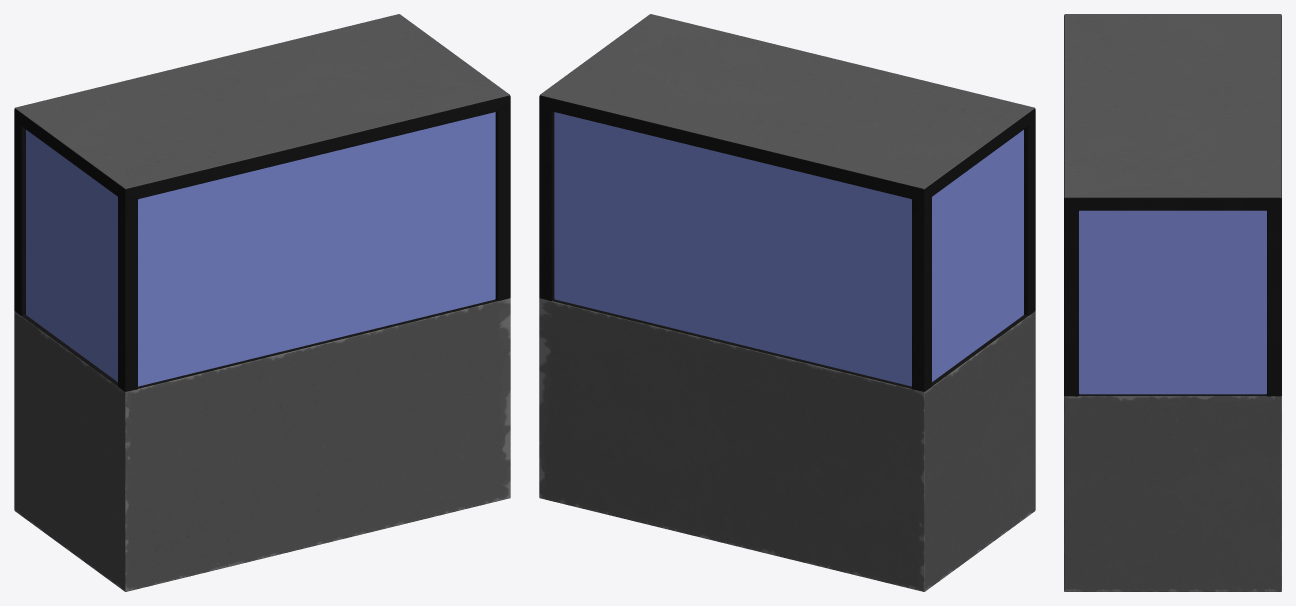
The model's file is museum_large.fbx.
The picture shows the model from 3 angles, left to right: view 1: azimuth 30°, elevation 25°; view 2: azimuth 150°, elevation 25°; view 3: azimuth 270°, elevation 25°; orthographic projection. The views are drawn at different scales.
Parts seen in each view (by area): view 1: Cube; view 2: Cube; view 3: Cube.
Boxes of the visible parts, bbox=[...] form: Cube: bbox=[14, 14, 510, 591]; Cube: bbox=[539, 14, 1035, 591]; Cube: bbox=[1064, 14, 1281, 591].
Bounding box in the file's own units: 1.99 × 1.99 × 0.9973.
